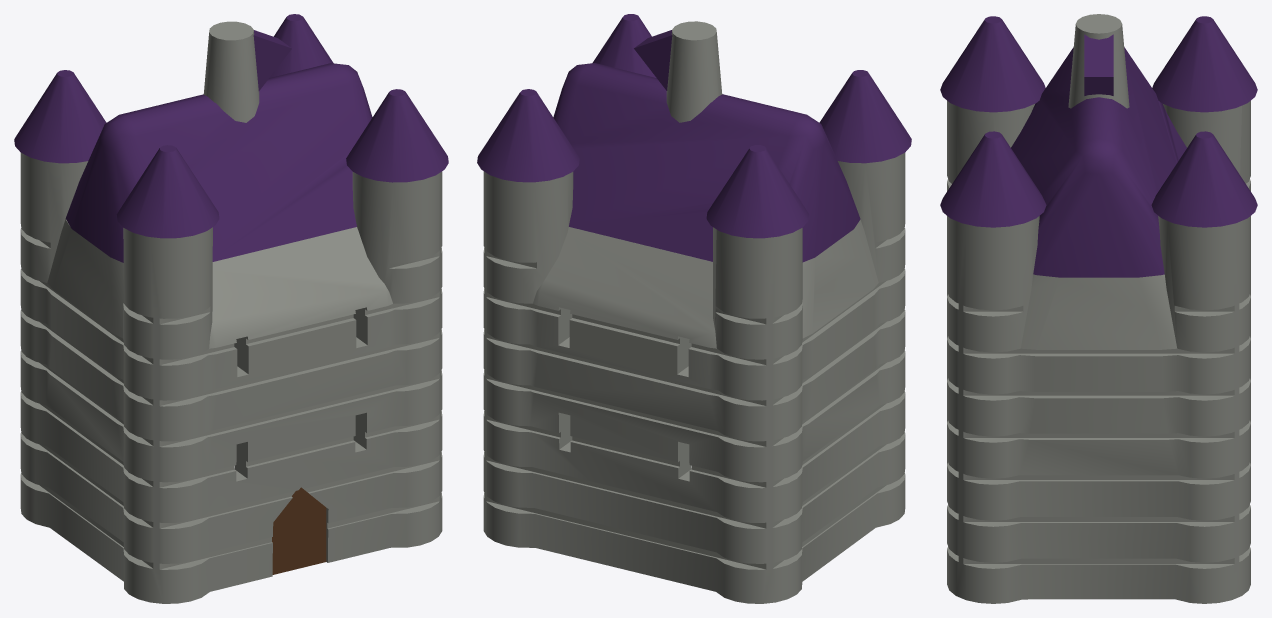
File: festung_indigo.glb
3 renders of one model, left to right at view 1: azimuth 30°, elevation 25°; view 2: azimuth 150°, elevation 25°; view 3: azimuth 270°, elevation 25°, orthographic. The views are drawn at different scales.
Parts seen in each view (by area): view 1: festung_indigo; view 2: festung_indigo; view 3: festung_indigo.
Part boxes in pixels (x1,y1,x2,y2): festung_indigo: [14, 14, 448, 603]; festung_indigo: [477, 14, 911, 603]; festung_indigo: [940, 14, 1257, 603].
Bounding box in the file's own units: 19.6 × 28.7 × 16.43.
